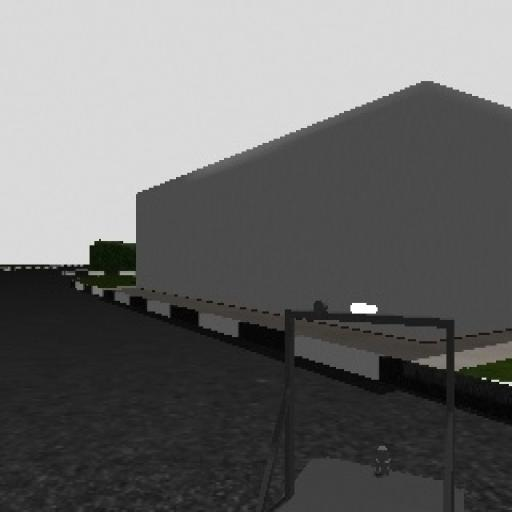huskya200: (234, 282, 469, 512)
